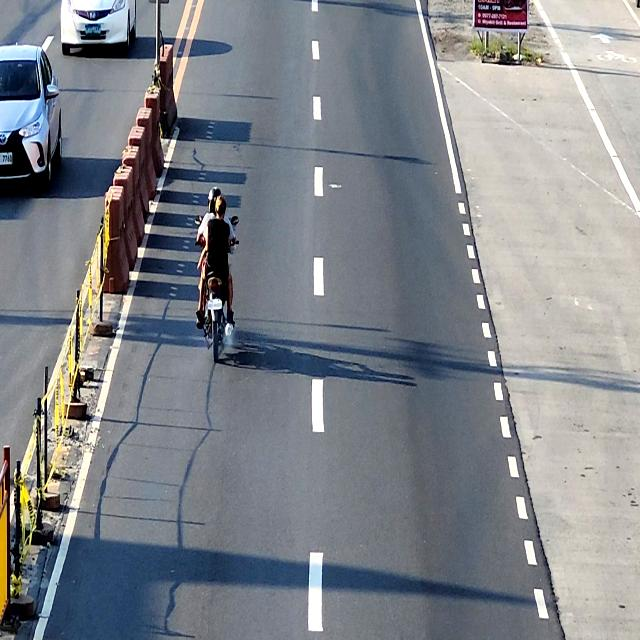Car: (0, 44, 63, 196), (60, 0, 136, 55)
License-Plate: (85, 24, 102, 36), (0, 152, 13, 166), (207, 299, 222, 310)
Motorcycle: (194, 215, 240, 363)
